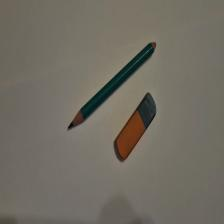eraser: (115, 93, 157, 161)
pencil: (69, 42, 157, 130)
